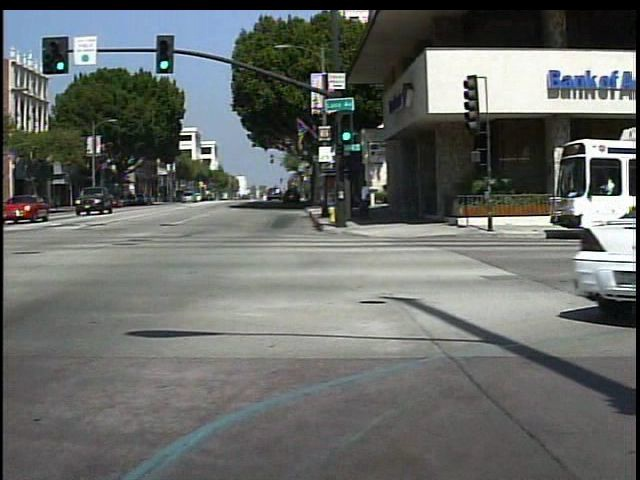person: (358, 179, 377, 225)
